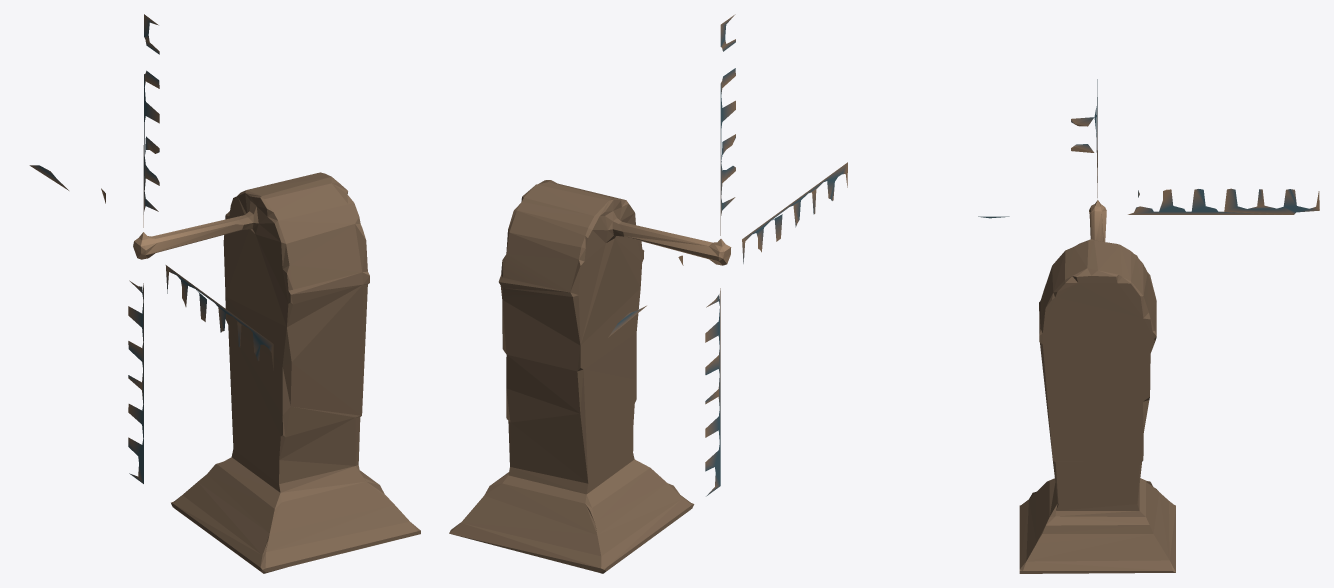
File: Windmills.glb
The picture shows the model from 3 angles, left to right: view 1: azimuth 30°, elevation 25°; view 2: azimuth 150°, elevation 25°; view 3: azimuth 270°, elevation 25°; orthographic projection. The views are drawn at different scales.
Parts seen in each view (by area): view 1: Root; view 2: Root; view 3: Root.
Boxes of the visible parts, x1,y1,x2,y2 form: Root: [29, 14, 420, 573]; Root: [449, 14, 847, 573]; Root: [978, 79, 1319, 573].
Bounding box in the file's own units: 7.65 × 16.76 × 14.44.
